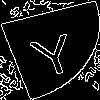Y: (25, 25, 81, 78)
